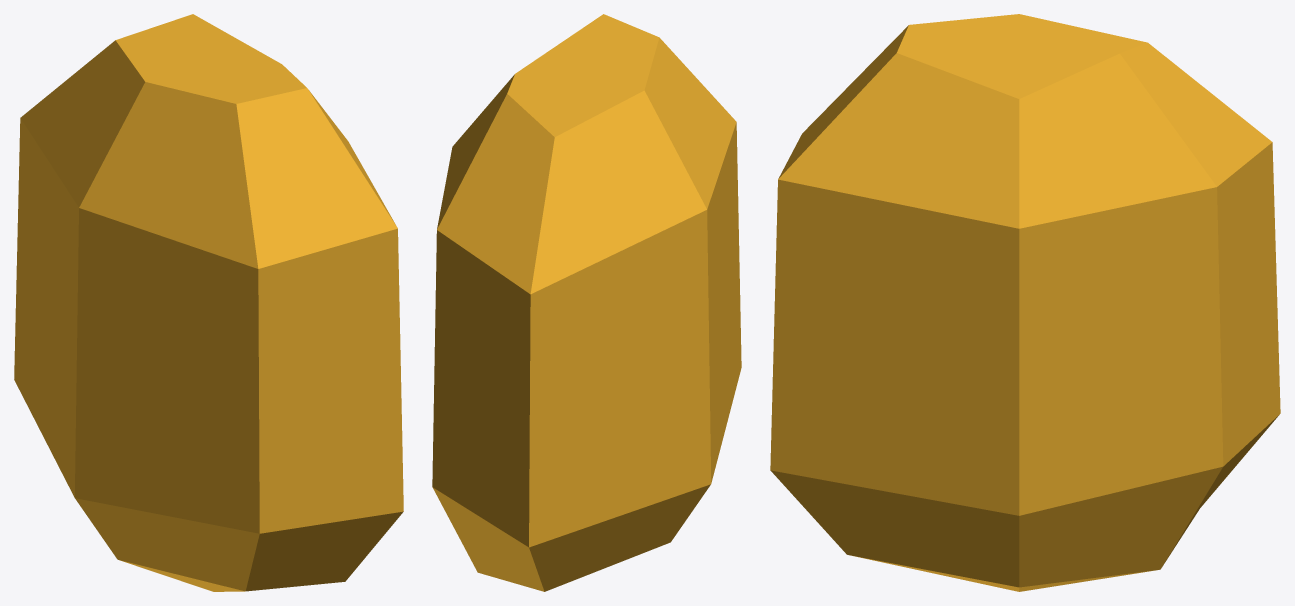
Rendered from SM_Topaz_Flawed.fbx.
3 renders of one model, left to right at view 1: azimuth 30°, elevation 25°; view 2: azimuth 150°, elevation 25°; view 3: azimuth 270°, elevation 25°, orthographic. The views are drawn at different scales.
Visible parts, largest first — view 1: SM_Topaz_Flawed; view 2: SM_Topaz_Flawed; view 3: SM_Topaz_Flawed.
Part boxes in pixels (x1,y1,x2,y2): SM_Topaz_Flawed: (14,14,403,591); SM_Topaz_Flawed: (432,14,741,591); SM_Topaz_Flawed: (770,14,1280,591).
Size of the model in its own units: 9.36 by 14.42 by 17.35.
